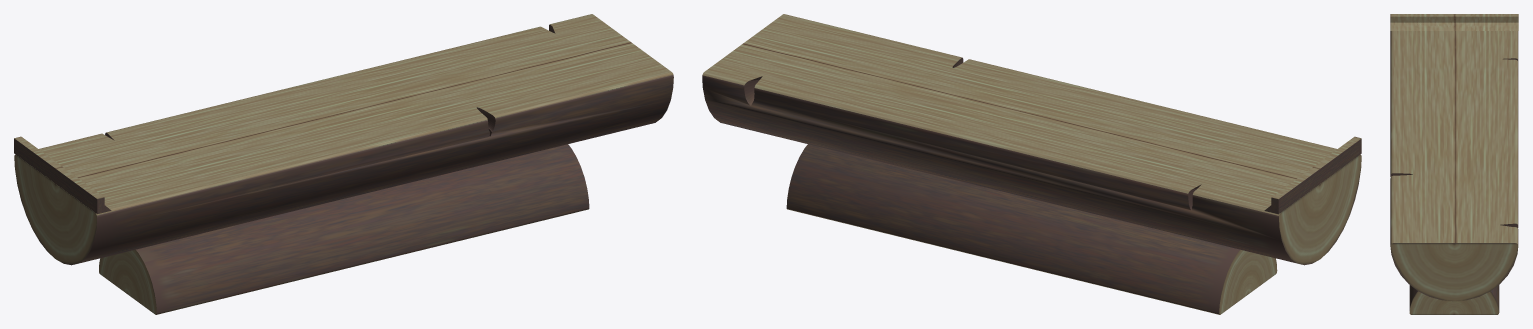
File: WoodenBench.fbx
3 renders of one model, left to right at view 1: azimuth 30°, elevation 25°; view 2: azimuth 150°, elevation 25°; view 3: azimuth 270°, elevation 25°, orthographic. The views are drawn at different scales.
Parts seen in each view (by area): view 1: Bench_Top_seat, Bench_Bottom, SideRailing; view 2: Bench_Top_seat, Bench_Bottom, SideRailing; view 3: Bench_Top_seat, SideRailing, Bench_Bottom.
Boxes of the visible parts, x1,y1,x2,y2 form: Bench_Top_seat: [14, 14, 673, 265]; Bench_Bottom: [99, 144, 589, 314]; SideRailing: [14, 136, 111, 214]; Bench_Top_seat: [702, 14, 1361, 265]; Bench_Bottom: [786, 144, 1277, 314]; SideRailing: [1264, 136, 1361, 214]; Bench_Top_seat: [1390, 31, 1518, 301]; SideRailing: [1390, 14, 1518, 30]; Bench_Bottom: [1409, 285, 1499, 314].
Bounding box in the file's own units: 400 × 95.01 × 100.
